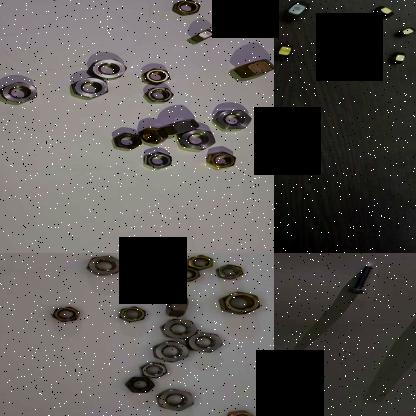Bolts: (342, 262, 374, 298)
NUTS: (214, 291, 266, 316), (145, 338, 191, 366), (170, 128, 218, 152), (85, 56, 128, 82), (155, 387, 197, 413), (154, 317, 199, 341), (212, 108, 256, 132), (67, 76, 110, 100), (0, 80, 43, 104), (82, 254, 124, 278), (185, 330, 225, 354), (200, 148, 238, 171), (278, 0, 316, 23), (160, 292, 190, 320), (110, 130, 142, 156), (120, 374, 156, 396), (135, 123, 169, 145), (140, 150, 176, 170), (182, 28, 218, 47), (166, 0, 204, 18), (212, 261, 246, 281), (48, 304, 80, 324), (139, 360, 168, 382), (140, 86, 174, 104), (184, 254, 216, 272), (116, 304, 146, 323), (138, 67, 170, 84), (170, 117, 202, 133), (171, 266, 199, 283), (332, 54, 360, 70), (370, 3, 396, 20), (274, 43, 295, 61), (392, 25, 416, 39), (326, 19, 352, 31), (388, 50, 410, 64), (222, 409, 256, 416)
